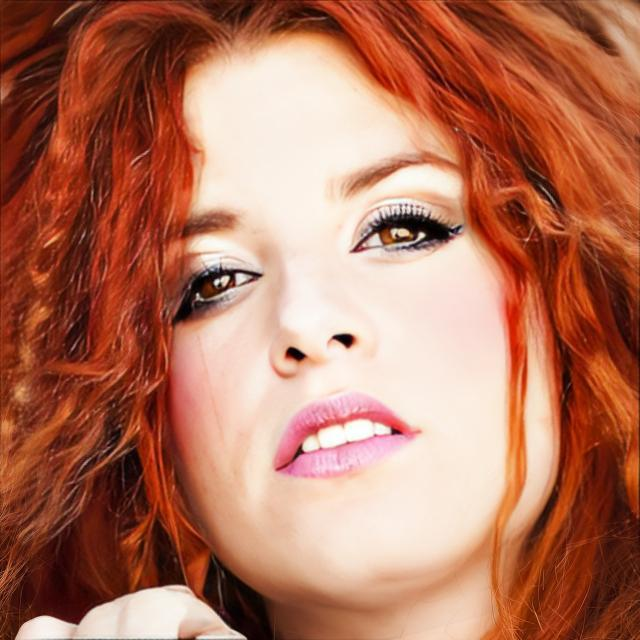disgust: (165, 29, 563, 608)
